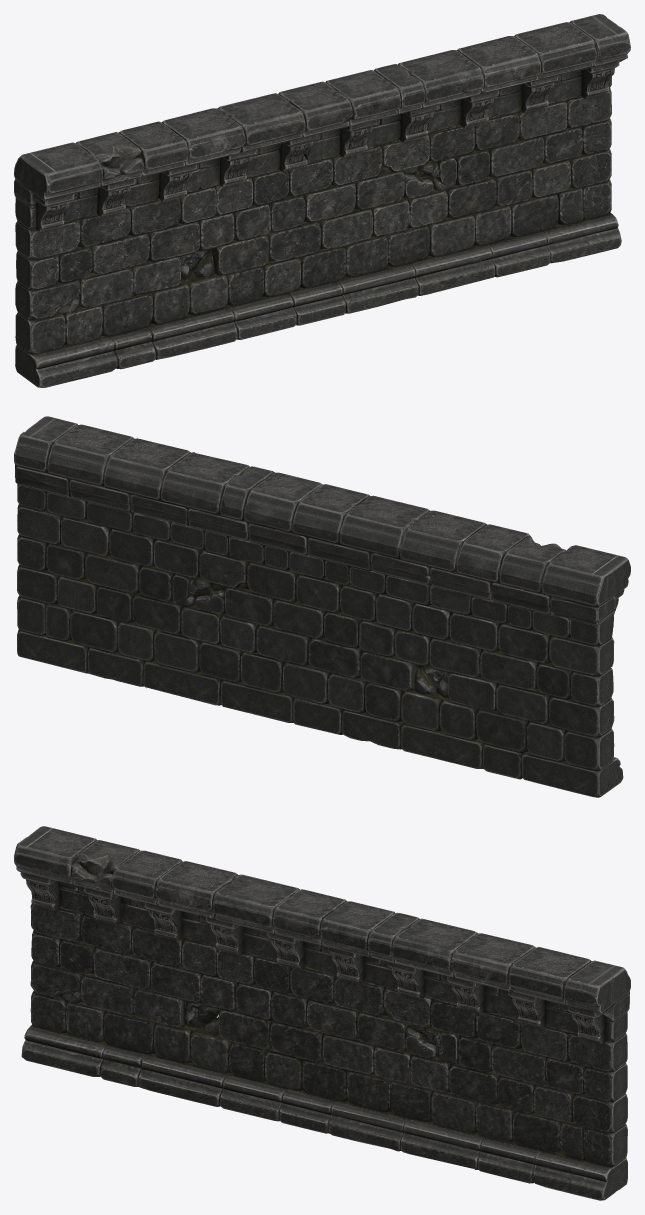
Rendered from prison_frieze.glb.
3 views of the same model, one above another, from view 1: azimuth 30°, elevation 25°; view 2: azimuth 150°, elevation 25°; view 3: azimuth 330°, elevation 25° (orthographic).
Parts seen in each view (by area): view 1: Mesh_0; view 2: Mesh_0; view 3: Mesh_0.
Part boxes in pixels (x1,y1,x2,y2): Mesh_0: (14,14,630,387); Mesh_0: (14,416,630,797); Mesh_0: (14,826,630,1200).
Size of the model in its own units: 1.9 by 0.6831 by 0.1954.
Materials: 1 (1 with a texture image).
